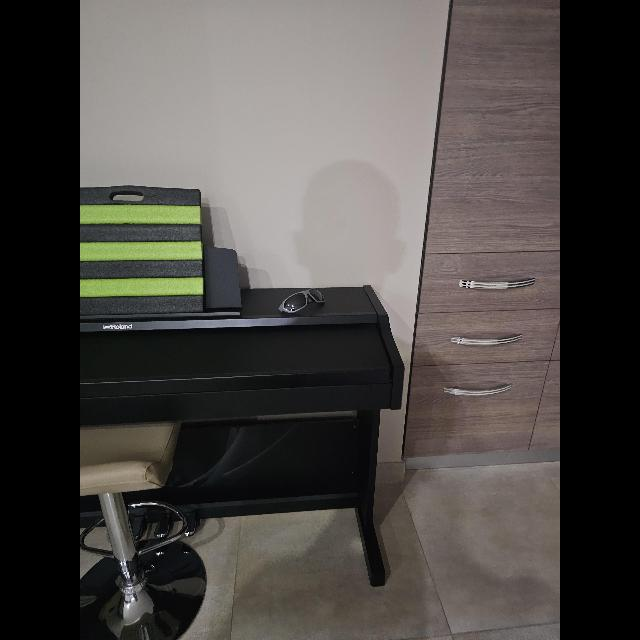Sunglasses: (279, 288, 325, 314)
